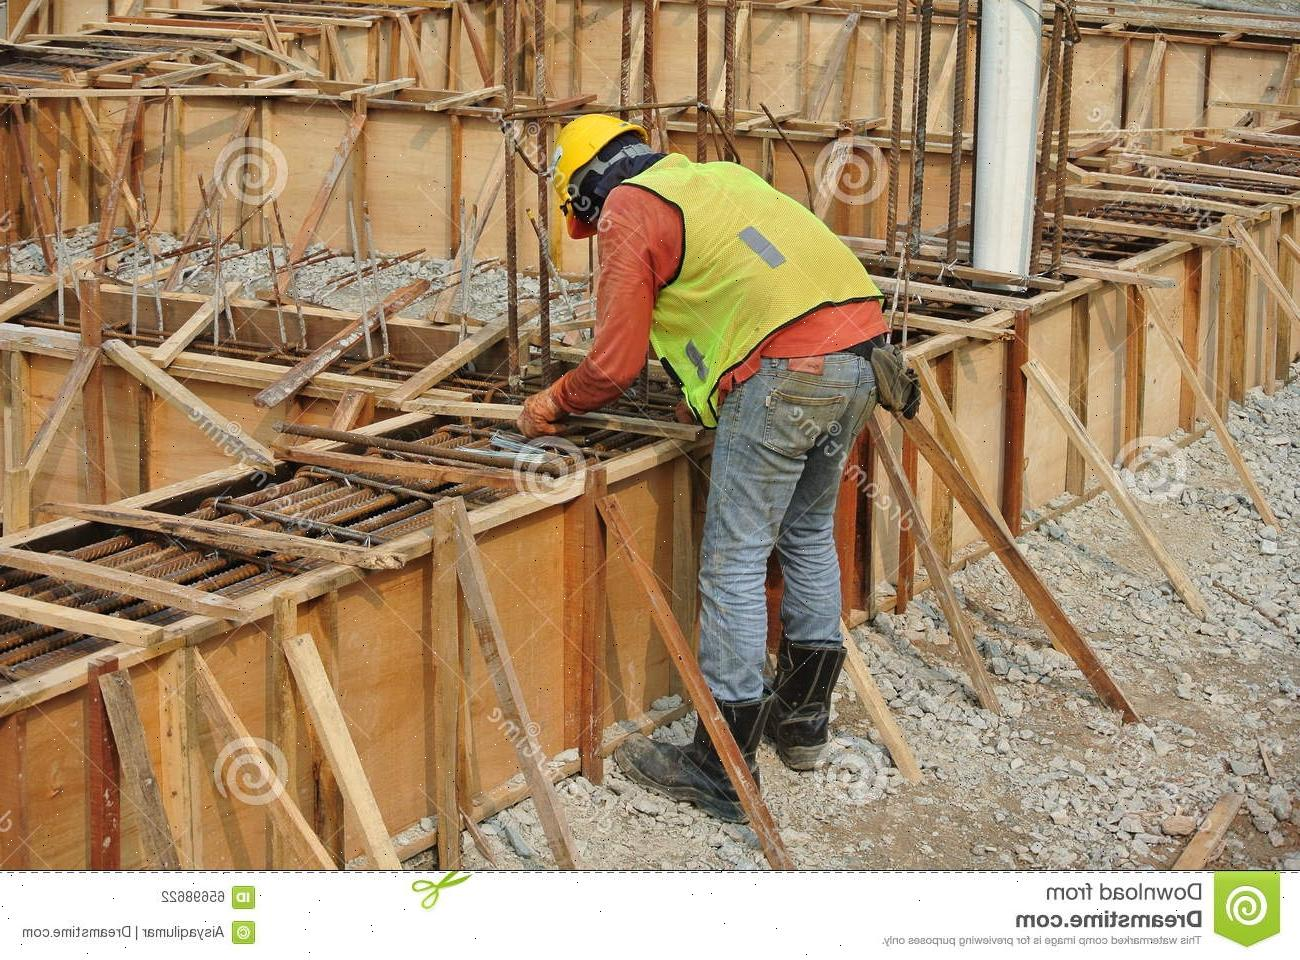helmet: (548, 112, 647, 191)
wear: (595, 161, 889, 372)
